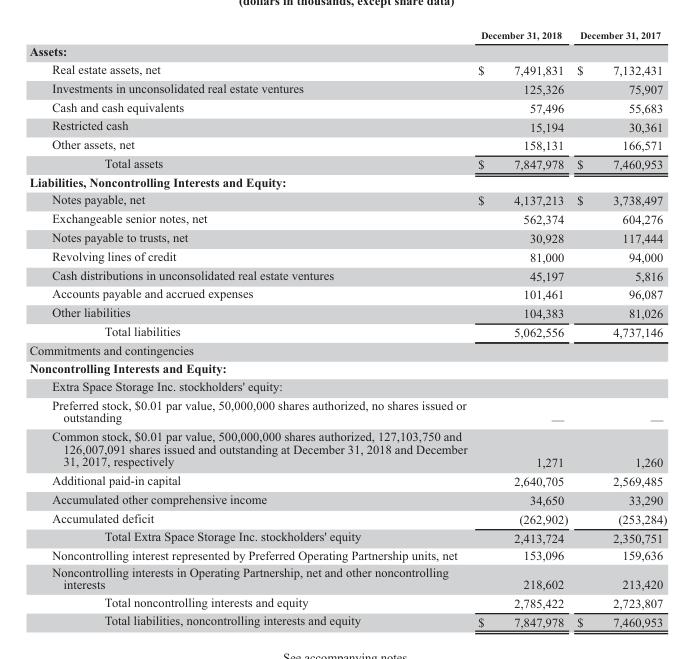table: (28, 29, 666, 628)
table column: (28, 29, 471, 628), (471, 29, 571, 628), (571, 29, 666, 628)
table column header: (28, 29, 666, 42)
table projected row header: (28, 376, 666, 395), (28, 172, 666, 190), (28, 340, 666, 358), (28, 358, 666, 376), (28, 42, 666, 59)
table row: (28, 427, 666, 471), (28, 395, 666, 427), (28, 563, 666, 592), (28, 59, 666, 78), (28, 78, 666, 97), (28, 97, 666, 116), (28, 116, 666, 135), (28, 153, 666, 172), (28, 190, 666, 209), (28, 227, 666, 246), (28, 246, 666, 265), (28, 265, 666, 284), (28, 284, 666, 303), (28, 321, 666, 340), (28, 376, 666, 395), (28, 489, 666, 508), (28, 508, 666, 527), (28, 527, 666, 546), (28, 592, 666, 611), (28, 135, 666, 153), (28, 172, 666, 190), (28, 209, 666, 227), (28, 303, 666, 321), (28, 340, 666, 358), (28, 358, 666, 376), (28, 471, 666, 489), (28, 42, 666, 59), (28, 546, 666, 563), (28, 611, 666, 628), (28, 29, 666, 42)
